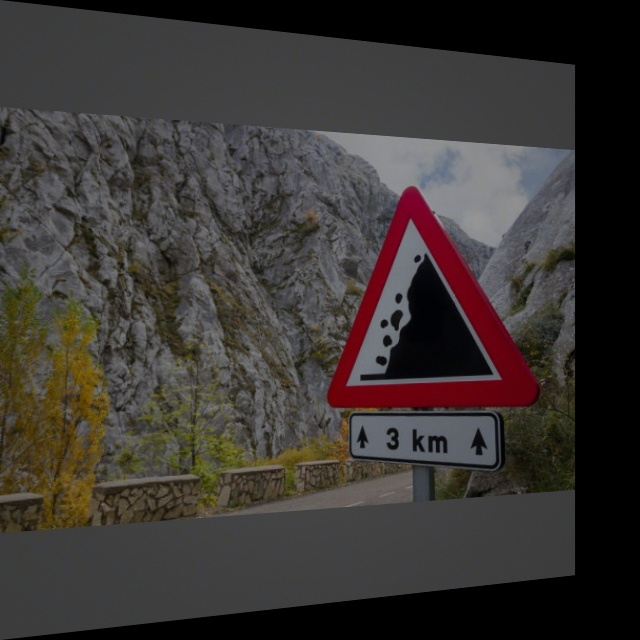Falling_Rocks: (321, 183, 534, 413)
